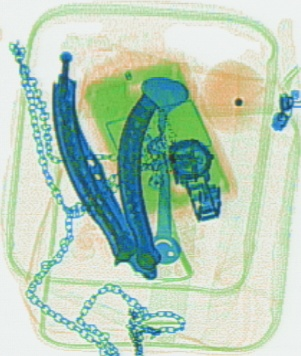knife: (53, 47, 162, 280)
